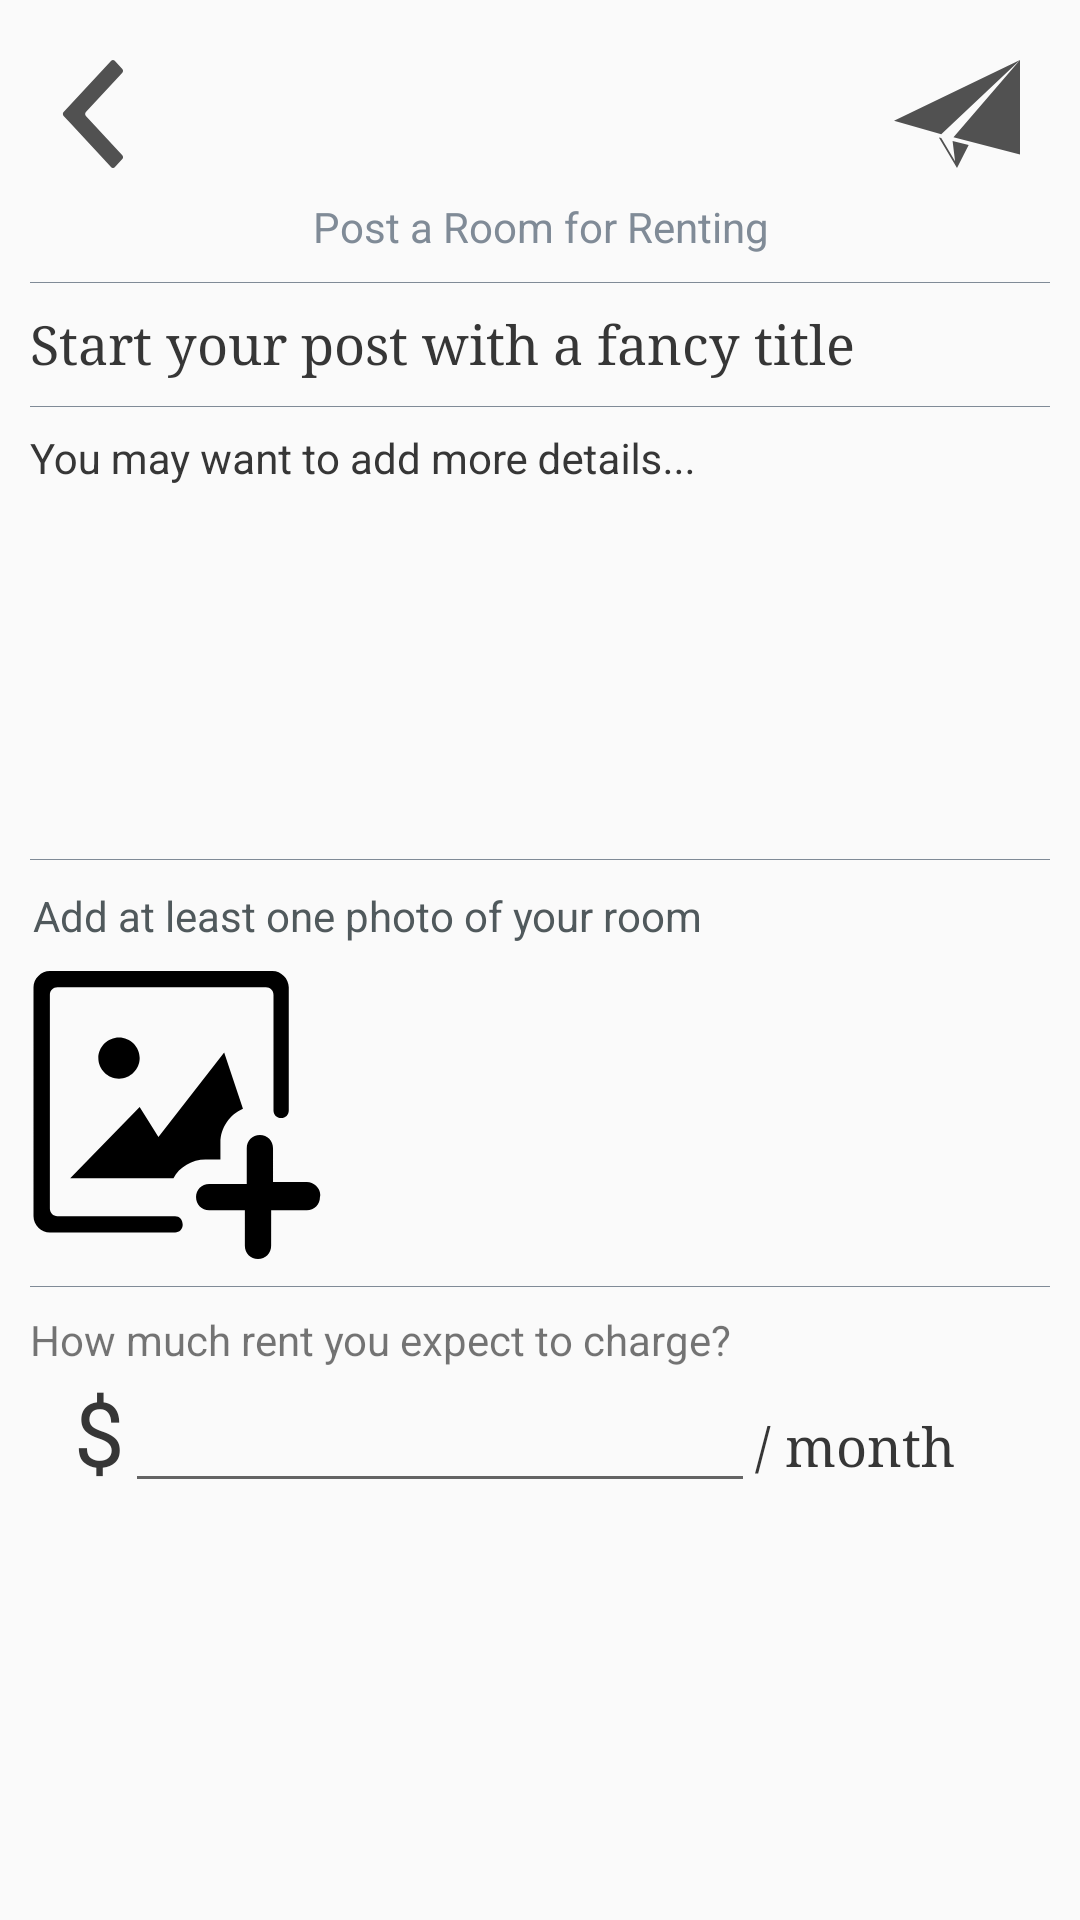

Where icons sit on this 1080w x 1920h app screen, as (x1, y1, x2, y2):
back: (63, 60, 123, 168)
upload pic: (33, 971, 321, 1259)
